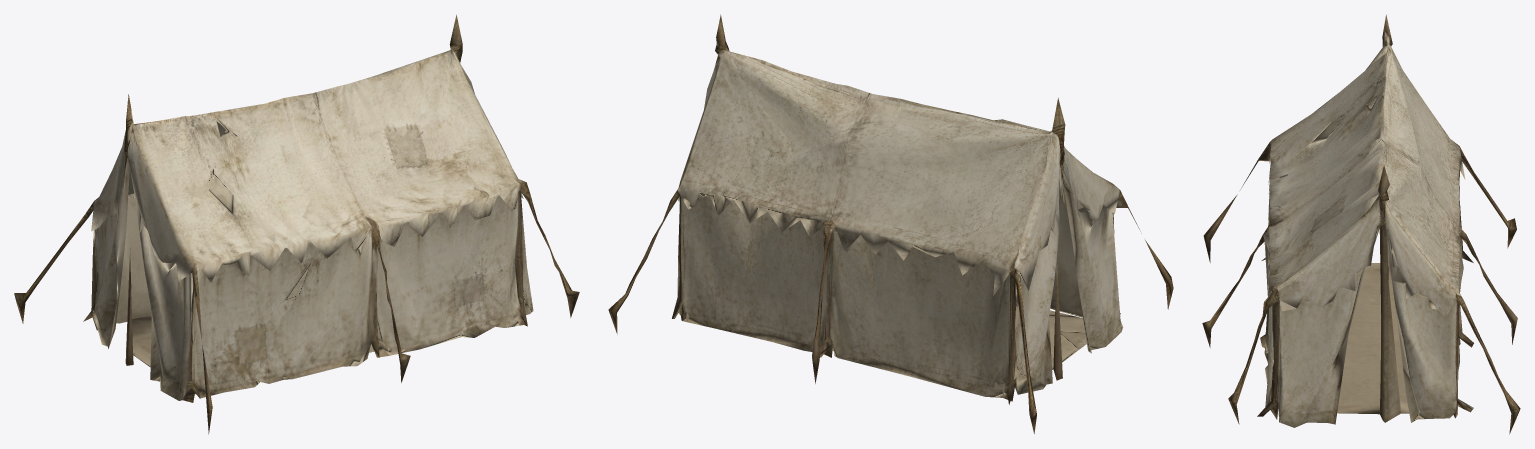
Rendered from tripo_convert_d9f9e5b8-49ea-4d0c-b7fd-c97e8321421a.fbx.
3 views of the same model, side by side, from view 1: azimuth 30°, elevation 25°; view 2: azimuth 150°, elevation 25°; view 3: azimuth 270°, elevation 25° (orthographic). The views are drawn at different scales.
Visible parts, largest first — view 1: tripo_node_d9f9e5b8; view 2: tripo_node_d9f9e5b8; view 3: tripo_node_d9f9e5b8.
Boxes of the visible parts, left/top/right/bottom form: tripo_node_d9f9e5b8: left=14, top=14, right=579, bottom=434; tripo_node_d9f9e5b8: left=608, top=14, right=1173, bottom=433; tripo_node_d9f9e5b8: left=1202, top=14, right=1520, bottom=434.
Bounding box in the file's own units: 0.972 × 0.6105 × 0.6849.
Materials: 1 (1 with a texture image).
